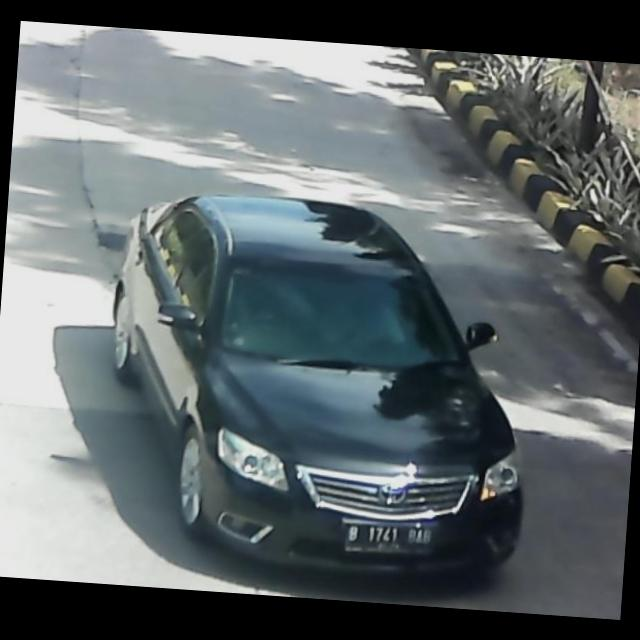plate: (338, 515, 439, 556)
